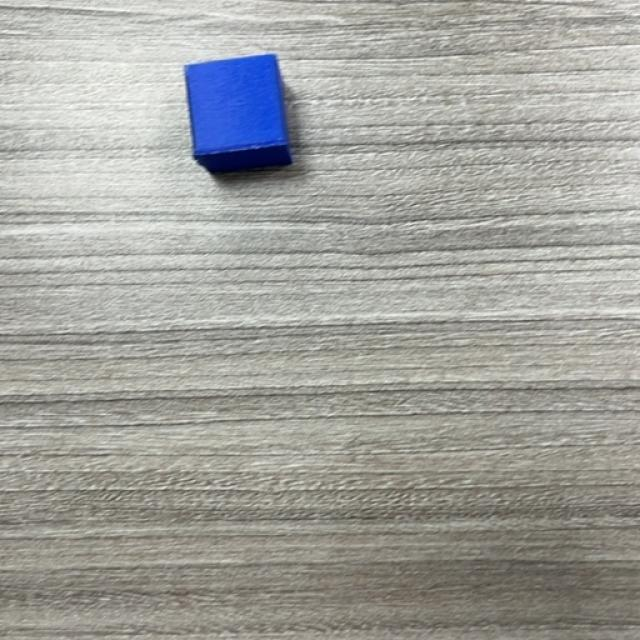Azul: (184, 54, 295, 175)
